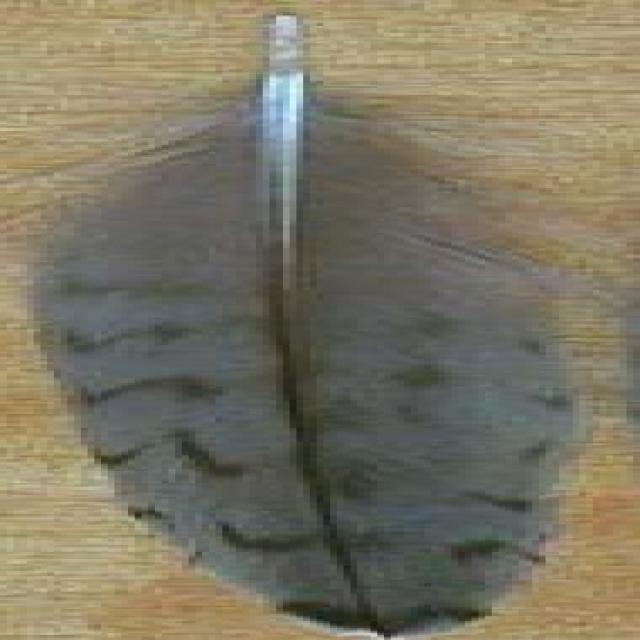feather: (22, 17, 572, 640)
